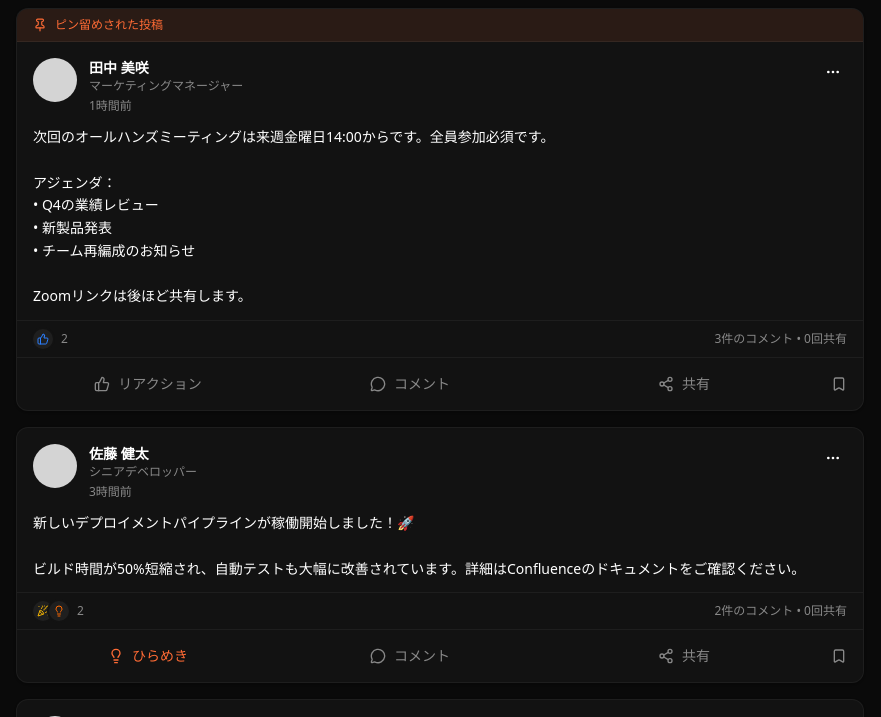
Test case: CommunityFeed / Interactions › should update display when reaction is selected
(page scrolled)
Click the button "リアクション" at (148, 384), box [25,366,271,402]
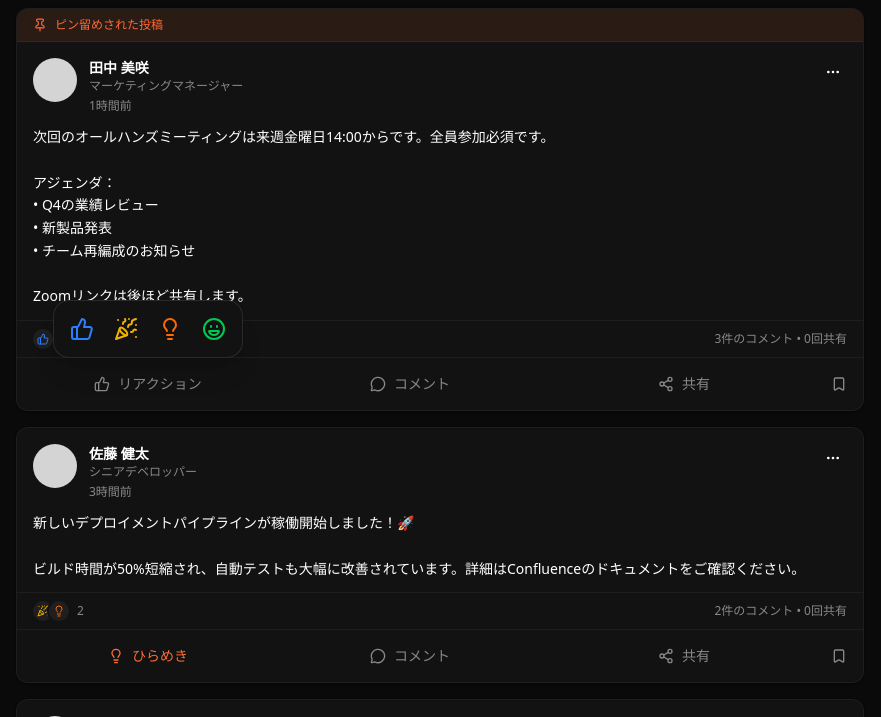
Click the button titled "いいね" at (82, 329), box [62,309,102,349]
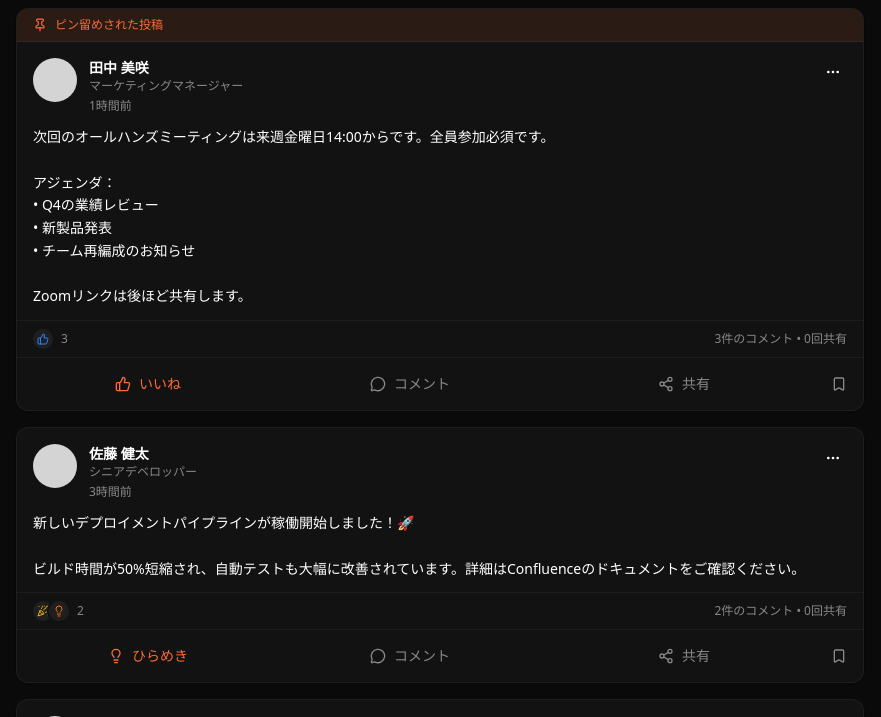
Result: the text "いいね" is shown at [139,374,181,394]
